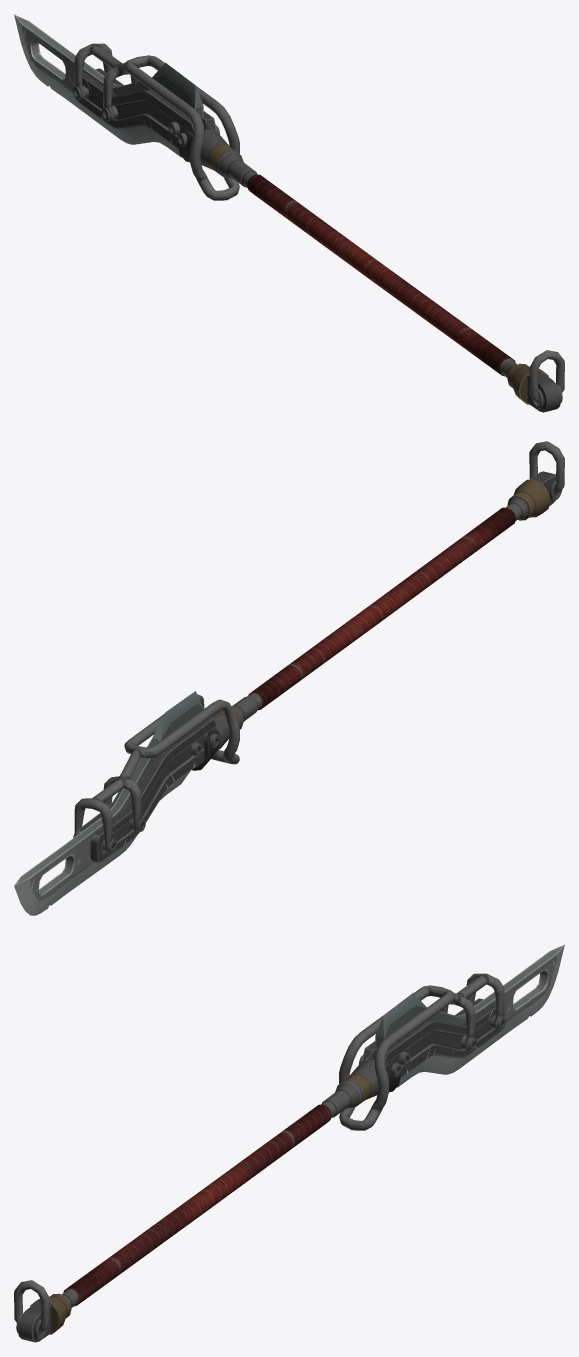
File: GlaiveSentinel.fbx
3 views of the same model, one above another, from view 1: azimuth 30°, elevation 25°; view 2: azimuth 150°, elevation 25°; view 3: azimuth 330°, elevation 25° (orthographic).
Parts seen in each view (by area): view 1: glaiveSentinel_LOD0; view 2: glaiveSentinel_LOD0; view 3: glaiveSentinel_LOD0.
Boxes of the visible parts, <box> form: glaiveSentinel_LOD0: <box>14,14,564,412</box>; glaiveSentinel_LOD0: <box>14,441,564,915</box>; glaiveSentinel_LOD0: <box>14,944,564,1342</box>.
Size of what is drawn, in the model's own units: 0.1166 by 0.2519 by 2.24.
